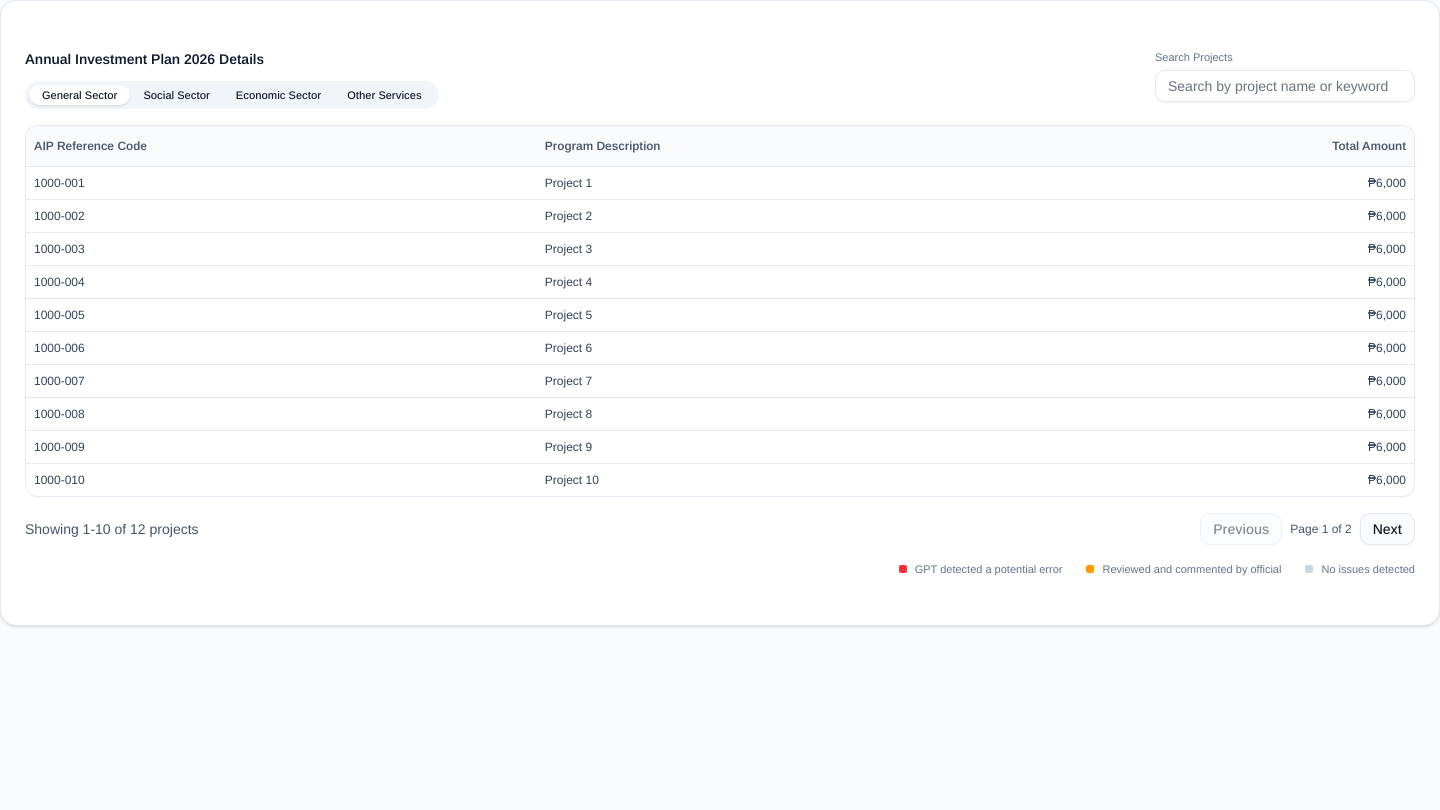
it: AipDetailsTableCard pagination › paginates rows when enabled
Expected: the text "Showing 1-10 of 12 projects" is shown, [25,518,199,538]
Expected: the text "Project 1" is shown, [537,166,1058,199]
Step 1. Click the button "Next" → coordinates (1387, 528), box [1360,512,1415,544]
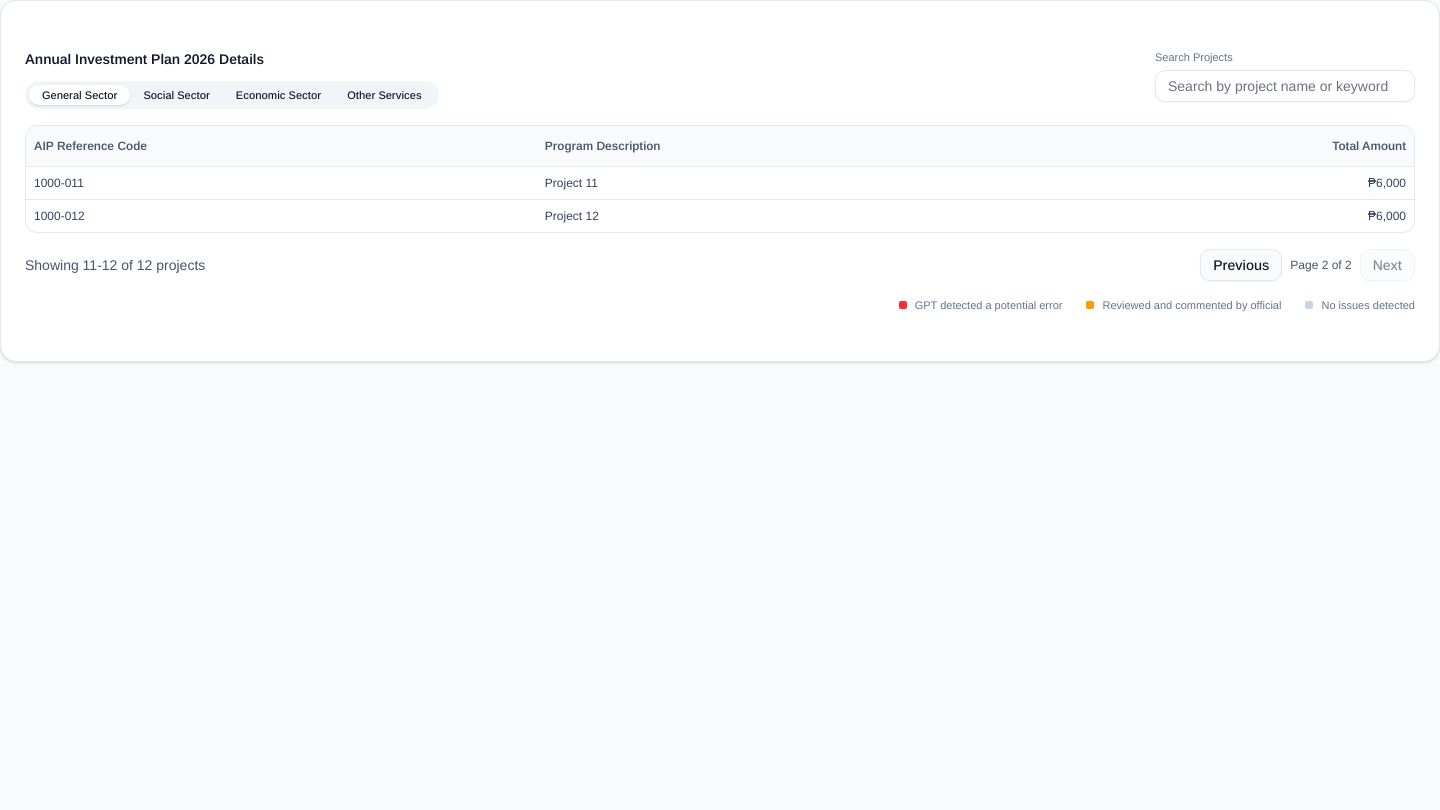
Result: the text "Showing 11-12 of 12 projects" is shown at [25,254,205,274]
Result: the text "Project 11" is shown at [537,166,1058,199]
